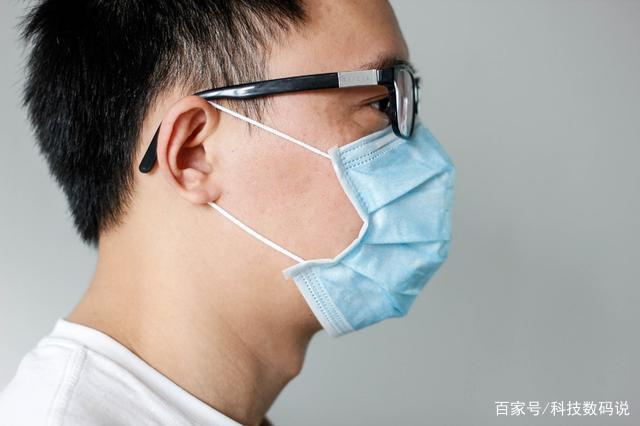mask: (170, 11, 462, 352)
